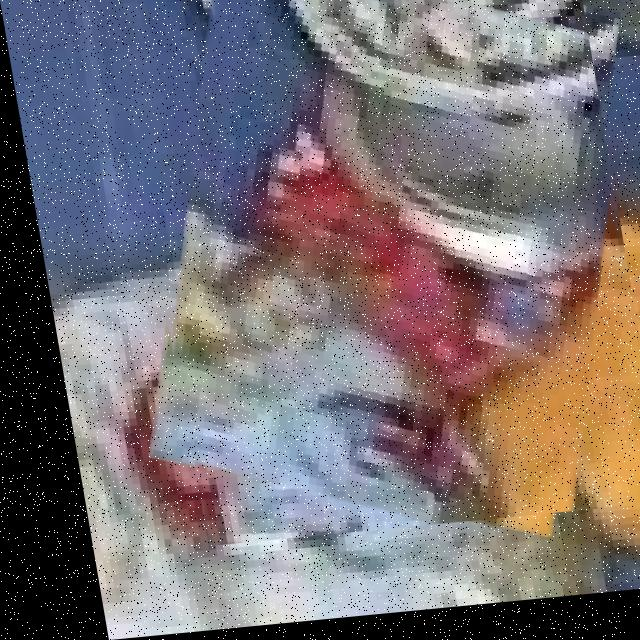litter: (103, 0, 640, 549)
